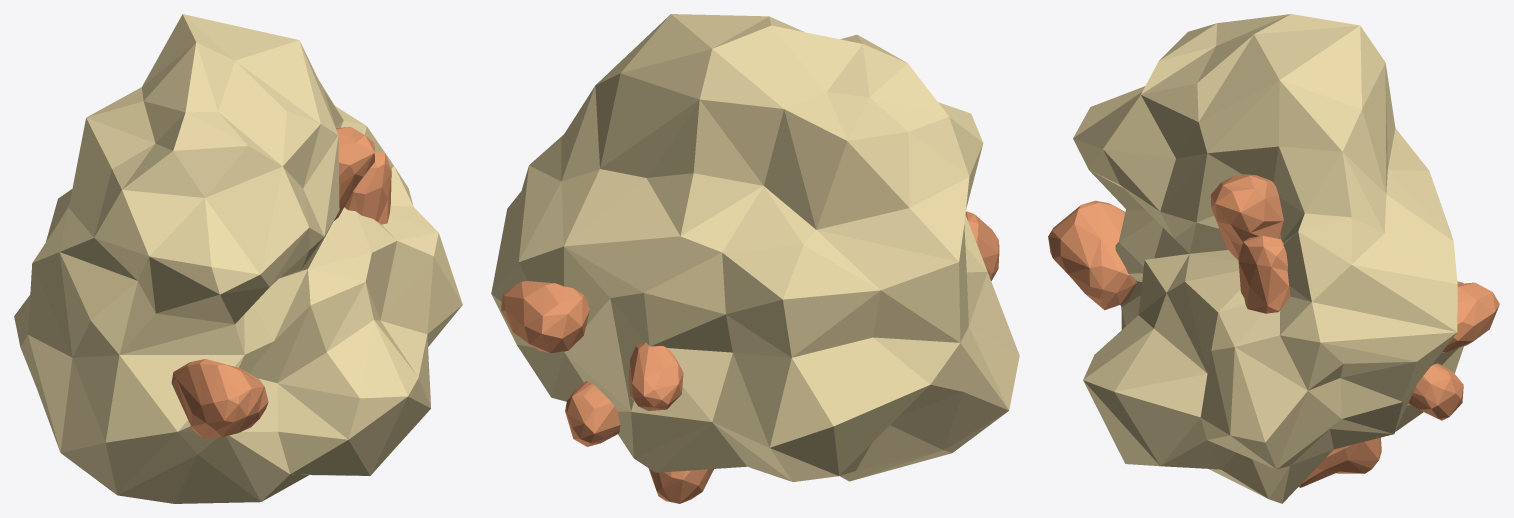
File: StoneOre (50).fbx
3 renders of one model, left to right at view 1: azimuth 30°, elevation 25°; view 2: azimuth 150°, elevation 25°; view 3: azimuth 270°, elevation 25°, orthographic. The views are drawn at different scales.
Visible parts, largest first — view 1: Asteroid337; view 2: Asteroid337; view 3: Asteroid337.
Boxes of the visible parts, left/top/right/bottom form: Asteroid337: left=14, top=14, right=462, bottom=503; Asteroid337: left=491, top=14, right=1019, bottom=503; Asteroid337: left=1048, top=14, right=1499, bottom=503.
Bounding box in the file's own units: 355 × 345 × 322.
